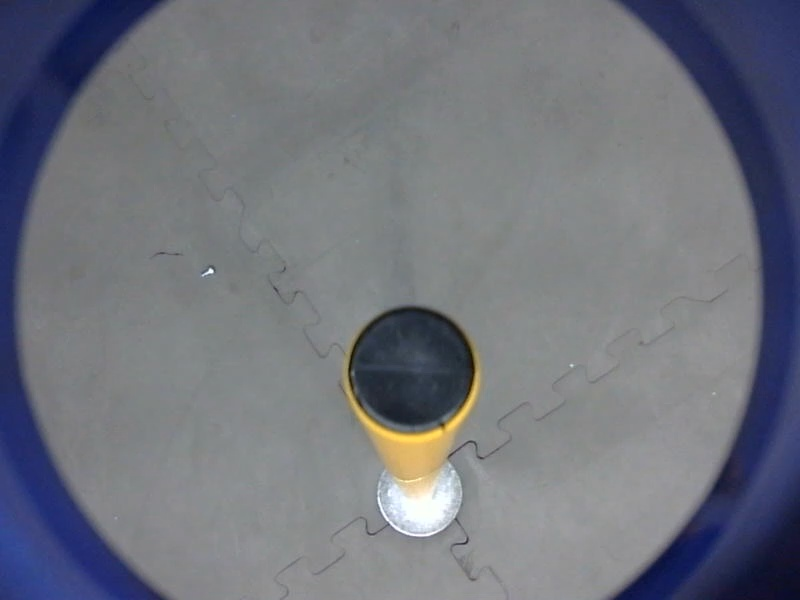tip: (339, 299, 486, 445)
